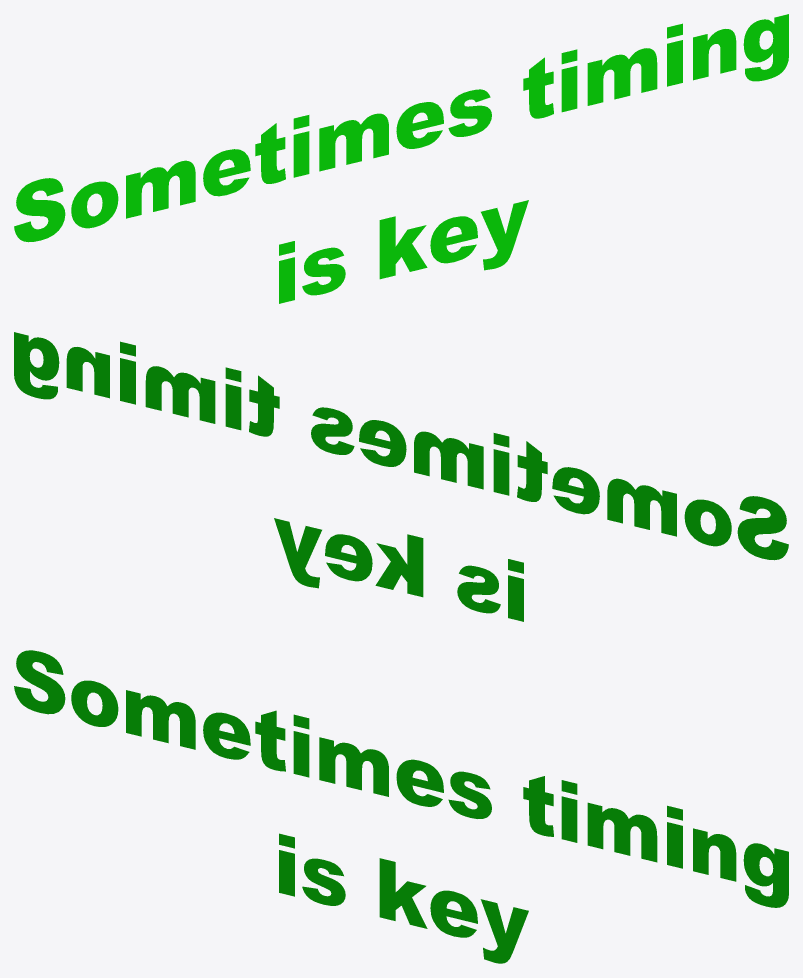
Rendered from tutorial_10.dae.
The picture shows the model from 3 angles, top to bottom: view 1: azimuth 30°, elevation 25°; view 2: azimuth 150°, elevation 25°; view 3: azimuth 330°, elevation 25°; orthographic projection.
Visible parts, largest first — view 1: Sometimes_timing (×20); view 2: Sometimes_timing (×20); view 3: Sometimes_timing (×20).
Part boxes in pixels (x1=…): Sometimes_timing (×20): x1=14, y1=14, x2=788, y2=303; Sometimes_timing (×20): x1=14, y1=332, x2=788, y2=621; Sometimes_timing (×20): x1=14, y1=650, x2=788, y2=963.
Size of the model in its own units: 2693 by 7.38e-14 by 665.
